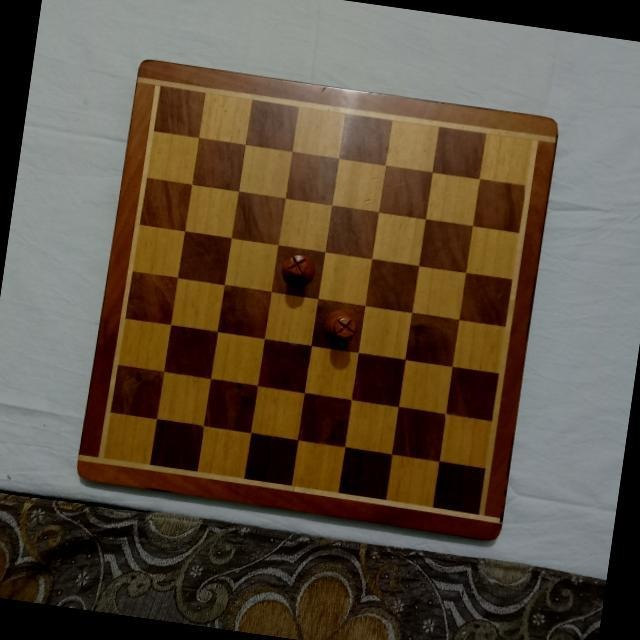white-rook: (279, 247, 320, 292), (320, 304, 360, 346)
